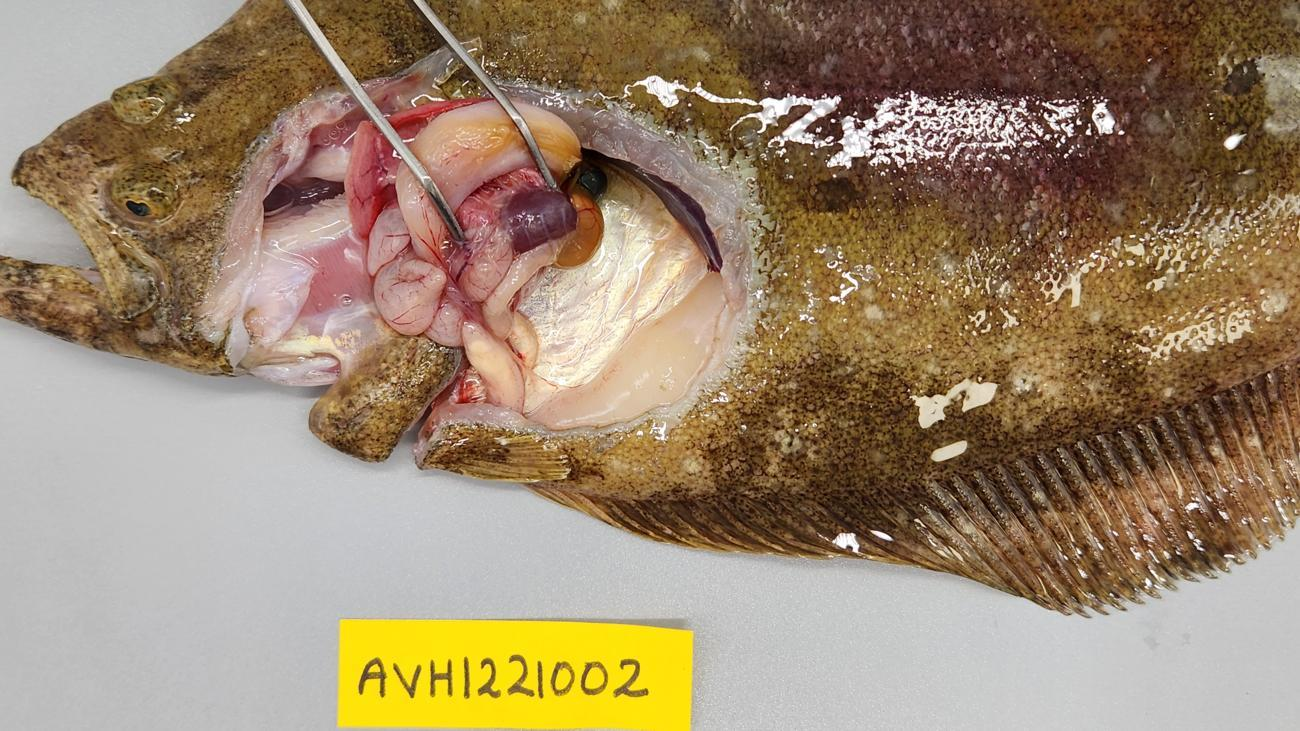VISPE: (501, 186, 577, 253)
